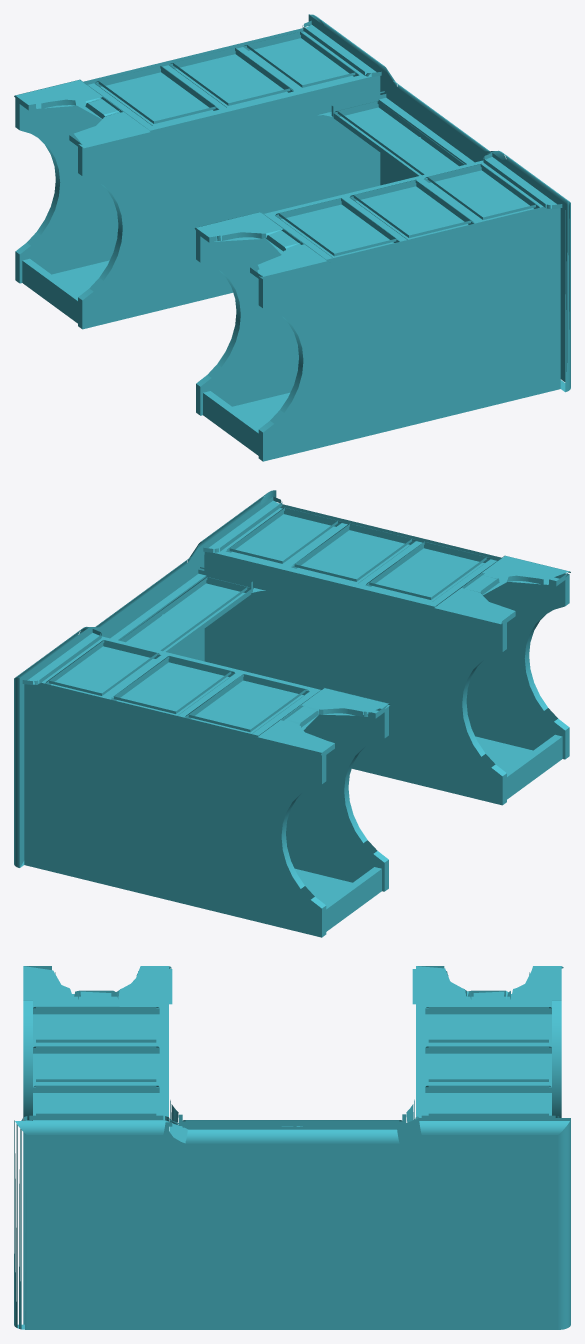
The picture shows the model from 3 angles, top to bottom: view 1: azimuth 30°, elevation 25°; view 2: azimuth 150°, elevation 25°; view 3: azimuth 270°, elevation 25°; orthographic projection. The views are drawn at different scales.
Visible parts, largest first — view 1: Renderer Node; view 2: Renderer Node; view 3: Renderer Node.
Part boxes in pixels (x1,y1,x2,y2): Renderer Node: [14, 14, 570, 461]; Renderer Node: [14, 490, 570, 937]; Renderer Node: [14, 966, 570, 1329].
Size of the model in its own units: 0.54 by 0.3187 by 0.779.
1 material, 1 textured.
